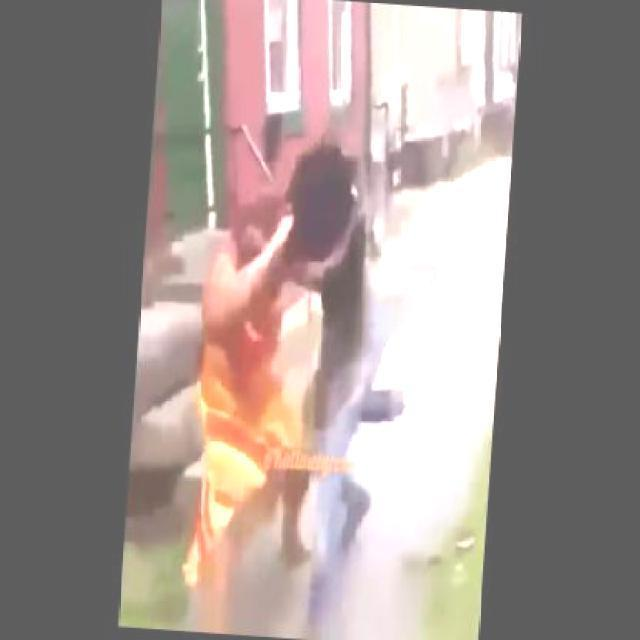fight: (178, 131, 397, 638)
